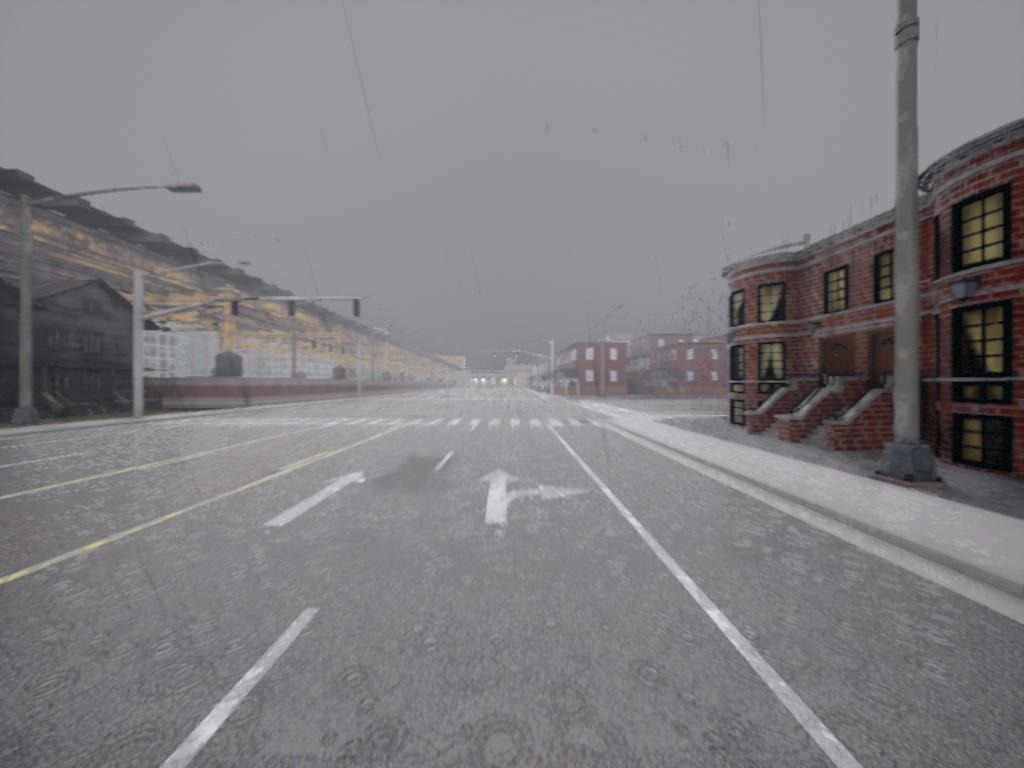traffic_light: (288, 300, 297, 319), (231, 302, 242, 317), (354, 299, 362, 317)
